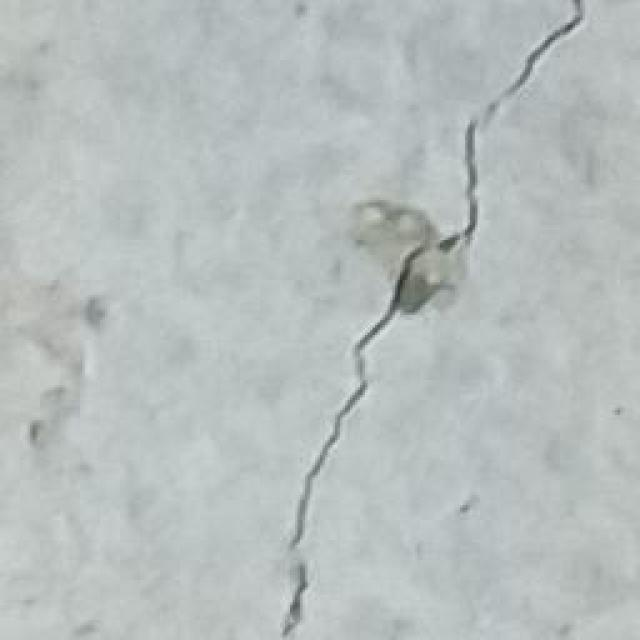Diagonal: (285, 2, 590, 640)
